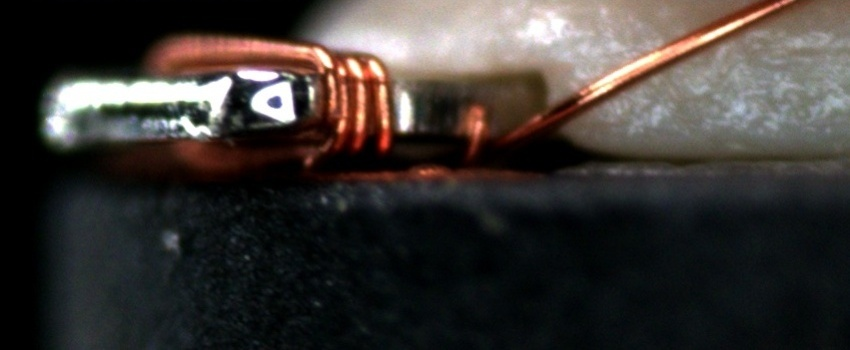DL: (706, 18, 849, 82)
TE: (147, 29, 393, 176)
